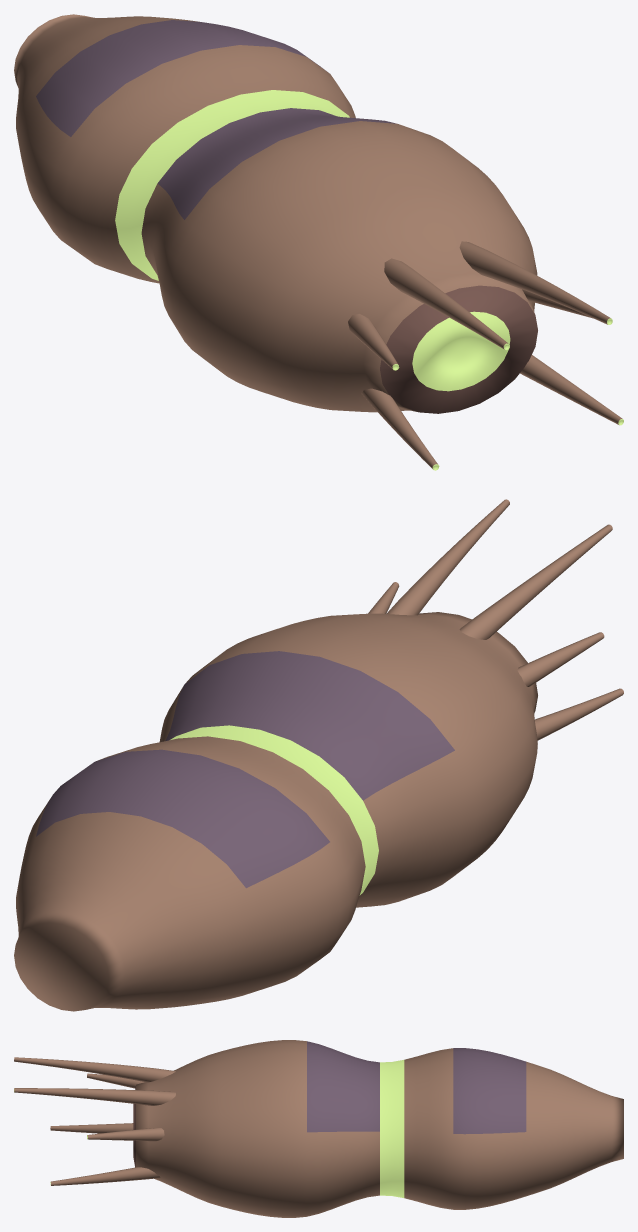
File: vhorr_ca.glb
3 views of the same model, one above another, from view 1: azimuth 30°, elevation 25°; view 2: azimuth 150°, elevation 25°; view 3: azimuth 270°, elevation 25° (orthographic). The views are drawn at different scales.
Parts seen in each view (by area): view 1: hull_mesh, limb_2_port_mesh, limb_2_mesh, limb_1_port_mesh, limb_1_mesh, limb_0_mesh; view 2: hull_mesh, limb_2_mesh, limb_2_port_mesh, limb_0_mesh, limb_1_mesh; view 3: hull_mesh, limb_2_port_mesh, limb_2_mesh, limb_1_port_mesh, limb_0_port_mesh, limb_1_mesh, limb_0_mesh.
Boxes of the visible parts, x1,y1,x2,y2 form: hull_mesh: [14, 14, 537, 413]; limb_2_port_mesh: [459, 241, 612, 324]; limb_2_mesh: [384, 258, 509, 350]; limb_1_port_mesh: [520, 355, 623, 425]; limb_1_mesh: [361, 388, 439, 470]; limb_0_mesh: [348, 314, 399, 370]; hull_mesh: [14, 612, 537, 1011]; limb_2_mesh: [459, 524, 612, 639]; limb_2_port_mesh: [386, 499, 509, 615]; limb_0_mesh: [517, 632, 604, 686]; limb_1_mesh: [535, 688, 623, 740]; hull_mesh: [133, 1040, 623, 1217]; limb_2_port_mesh: [14, 1088, 175, 1105]; limb_2_mesh: [14, 1057, 175, 1082]; limb_1_port_mesh: [50, 1167, 160, 1185]; limb_0_port_mesh: [87, 1128, 164, 1141]; limb_1_mesh: [50, 1123, 133, 1133]; limb_0_mesh: [87, 1073, 144, 1088].
Size of the model in its own units: 60.23 by 44.28 by 163.
